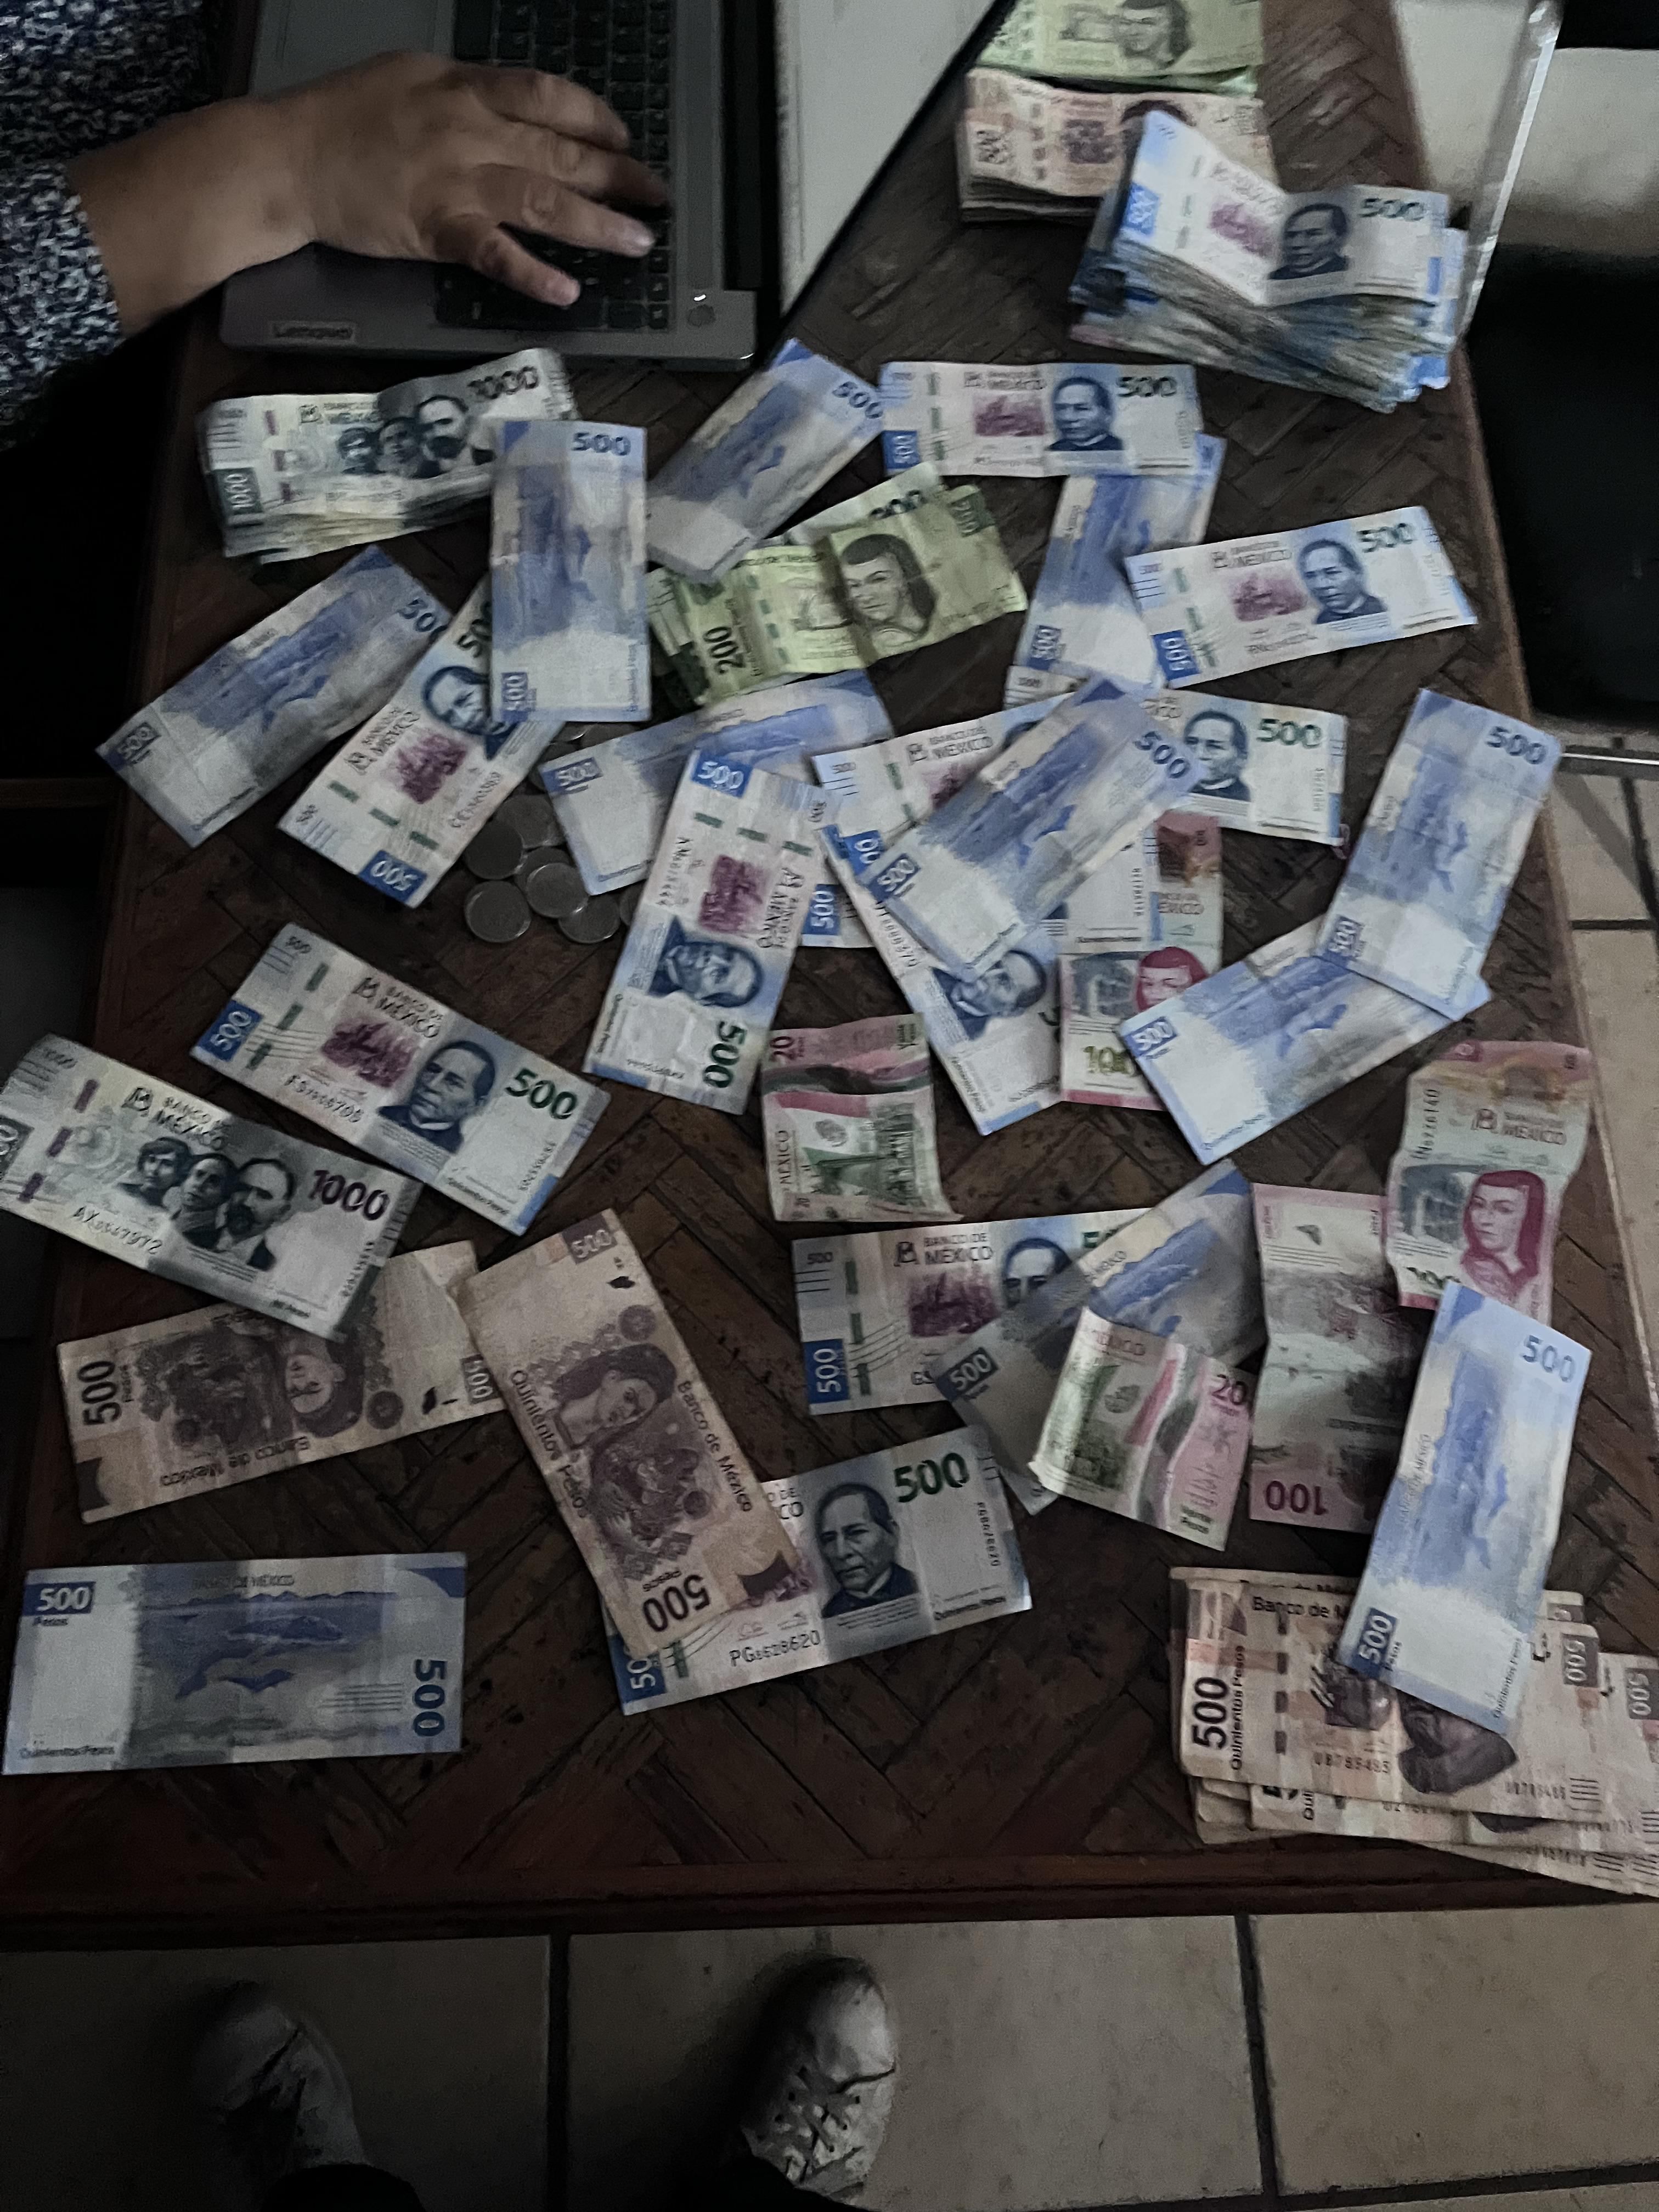100: (1232, 1165, 1480, 1562), (1394, 1015, 1593, 1338)
1000: (0, 1026, 415, 1334), (181, 350, 605, 538)
20: (1023, 1291, 1267, 1555), (737, 1010, 978, 1231)
200: (653, 479, 1051, 711), (974, 0, 1277, 71)
500: (436, 1197, 835, 1635), (1161, 1569, 1659, 1892), (5, 1235, 533, 1536), (957, 66, 1290, 207)
500 nuevo: (565, 1426, 1044, 1721), (188, 913, 603, 1244), (1331, 1266, 1621, 1737), (87, 545, 464, 852), (288, 521, 563, 923), (1107, 894, 1499, 1172), (9, 1559, 479, 1768), (887, 669, 1209, 972), (579, 740, 831, 1123), (775, 1198, 1225, 1413), (502, 657, 904, 885), (842, 796, 1100, 1141), (1108, 113, 1480, 336), (1323, 686, 1567, 1017), (1009, 399, 1225, 730), (626, 329, 889, 590), (1124, 519, 1507, 693), (481, 408, 660, 728), (864, 338, 1248, 486), (1086, 658, 1364, 859)
